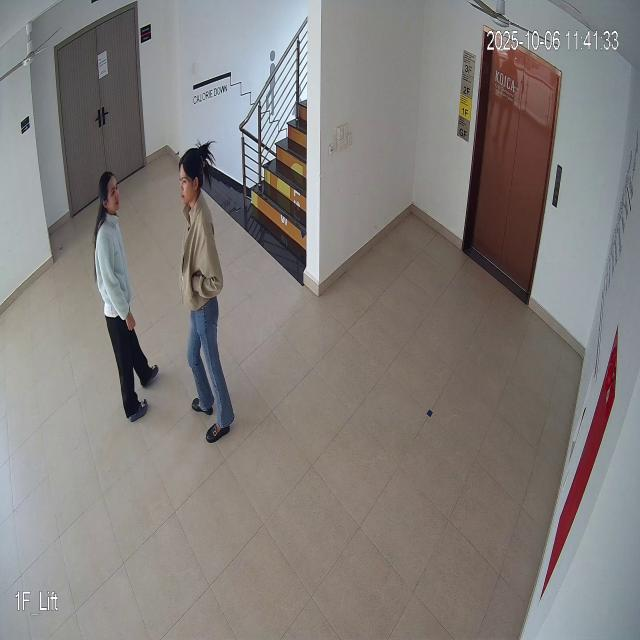face: (175, 146, 210, 214), (94, 160, 122, 230)
